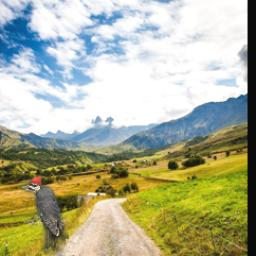Woodpecker: (20, 175, 68, 256)
